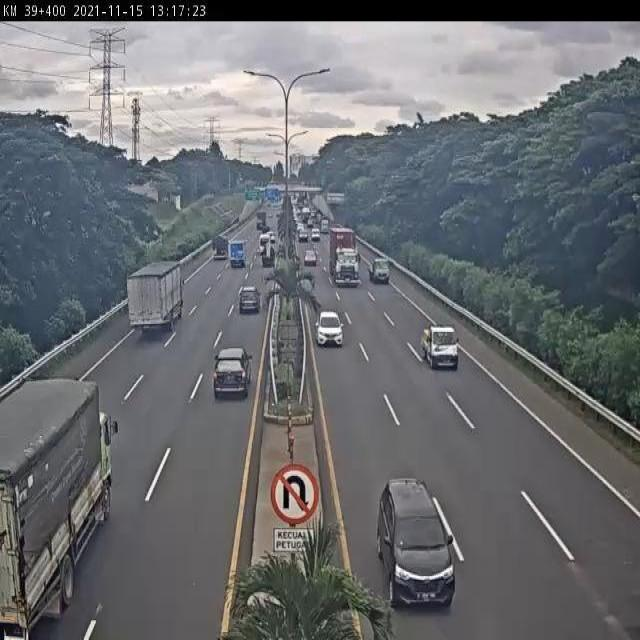Car: (377, 478, 456, 608), (212, 346, 254, 400), (420, 323, 459, 370), (314, 308, 344, 346), (238, 284, 261, 314), (370, 257, 390, 284), (304, 249, 318, 266), (298, 228, 308, 242), (311, 228, 320, 242)
Truck: (0, 377, 116, 640), (126, 262, 184, 336), (329, 228, 360, 287), (228, 238, 248, 268)
